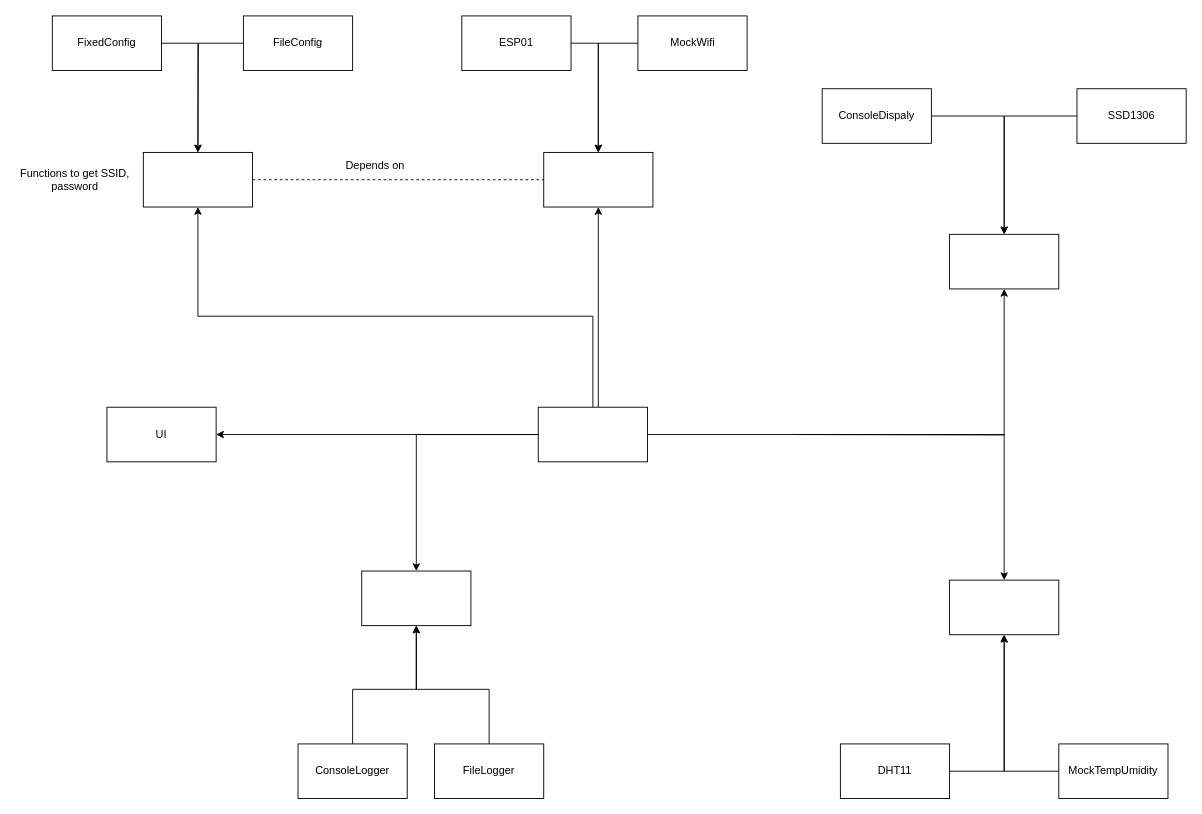
Some shapes in this 1202 by 814 pixel diagram are drawn without their labels. Each missing label, with the box of its shape:
Display<I>: (949, 233, 1059, 289)
Logger<I>: (361, 570, 471, 626)
Main: (537, 406, 647, 462)
TempUmidity<I>: (949, 579, 1059, 635)
Wifi<I>: (543, 152, 653, 207)
WifiConfig<I>: (142, 152, 253, 207)
